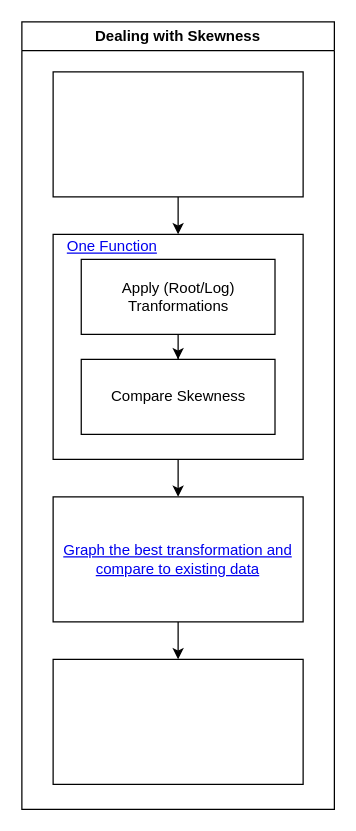
This 356x831 diagram has some shape labels left out. The shapes that lost their labels are listed below. From the top down, each one's box as (x1, y1, x2, y2) in pixels, then its label:
(52, 71, 303, 197): Impute by central tendency
(52, 658, 303, 784): Appy transformation to the working data
